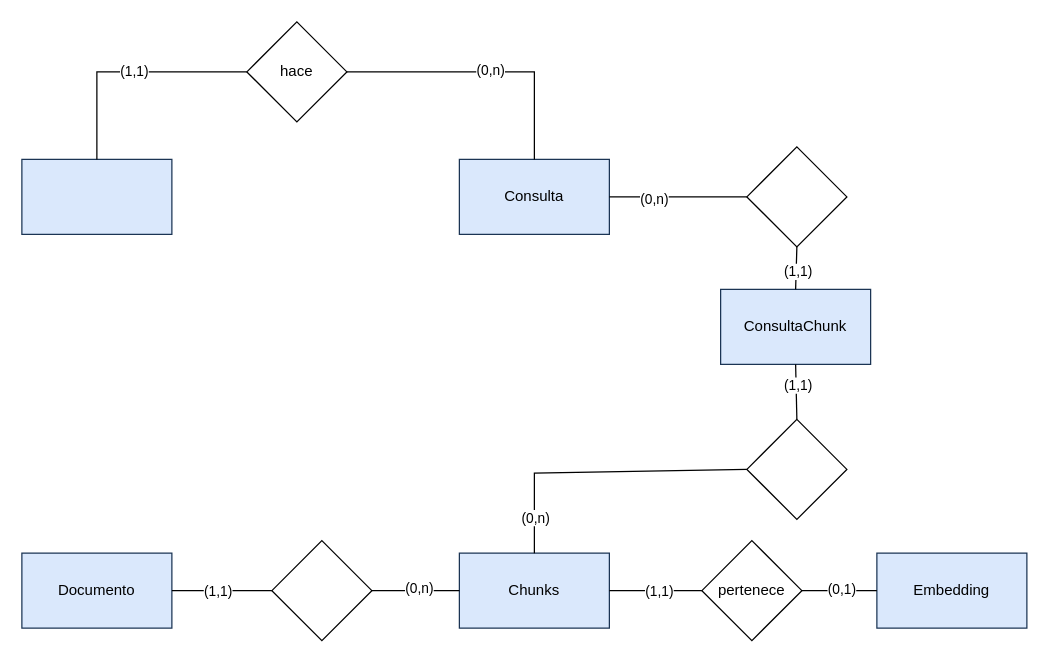
The diagram is 1049 pixels wide and 663 high, and some of its shapes have lost their labels. The centre of each missing label's shape, as x and y in pixels:
"aparece" goes at [796,468].
"incluye" goes at [796,196].
"tiene" goes at [321,590].
"Usuario" goes at [96,196].
